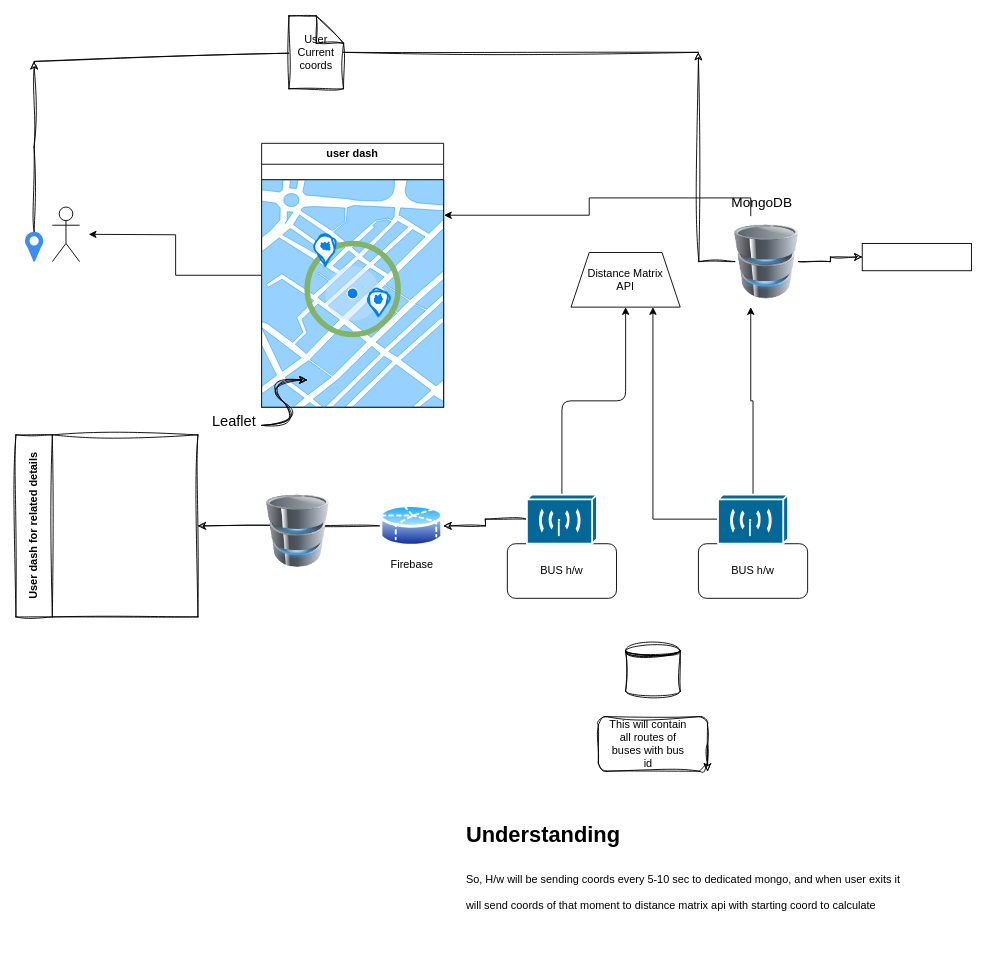
Some shapes in this 987 by 953 pixel diagram are drawn without their labels. The shapes that lost their labels are listed below. From the top down, each one's box as (x1, y1, x2, y2) in pixels, then its label:
(51, 206, 80, 262): Actor
(861, 243, 971, 271): Co-ordinates
(261, 494, 334, 567): MongoDibba
(625, 643, 680, 698): Route DB
